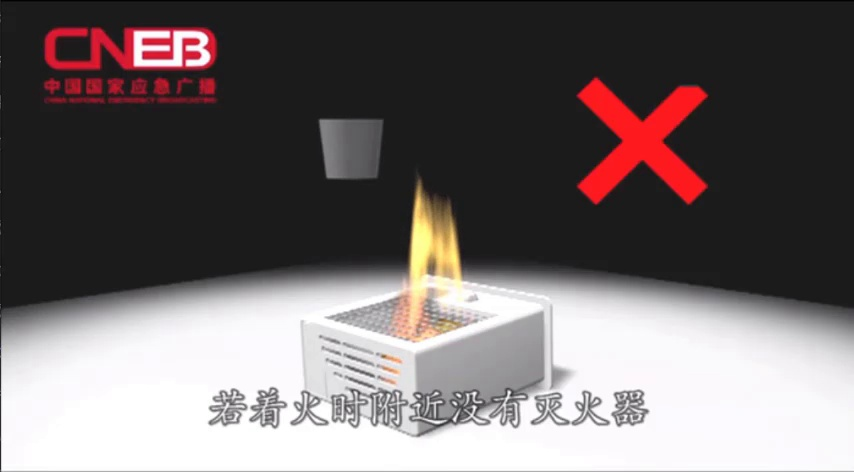fire: (392, 171, 469, 338)
